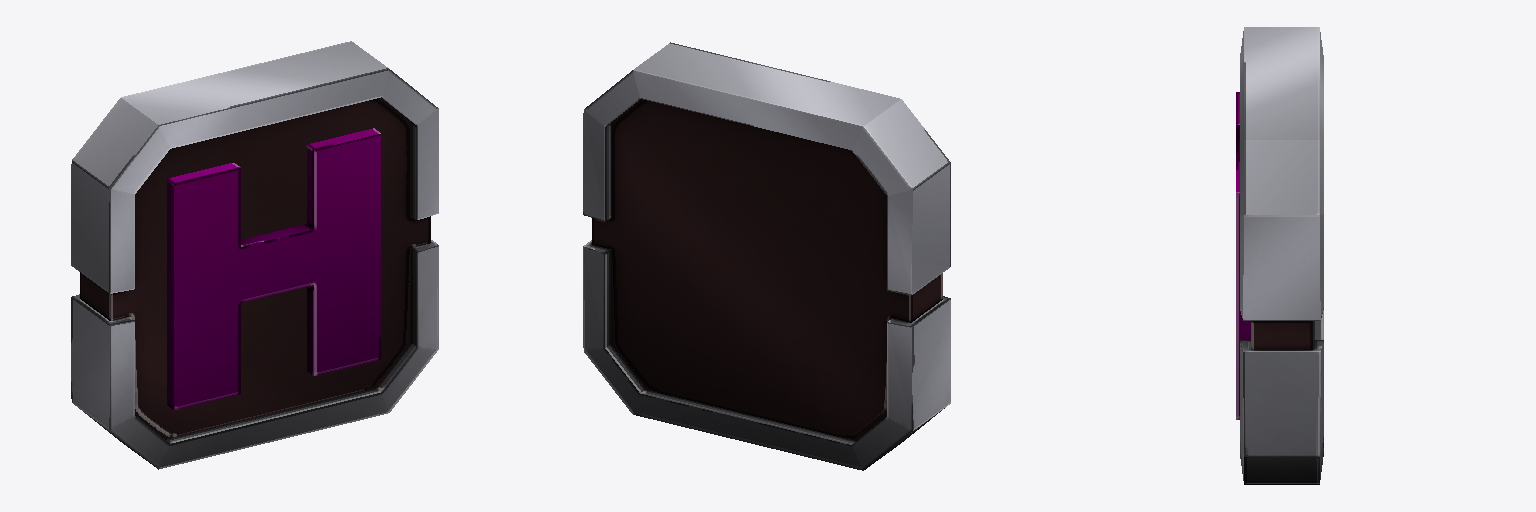
3 views of the same model, side by side, from view 1: azimuth 30°, elevation 25°; view 2: azimuth 150°, elevation 25°; view 3: azimuth 270°, elevation 25° (orthographic).
Visible parts, largest first — view 1: Box001, Object006; view 2: Box001; view 3: Box001, Object006.
Boxes of the visible parts, x1=… form: Box001: x1=71, y1=41, x2=438, y2=469; Object006: x1=167, y1=128, x2=380, y2=410; Box001: x1=583, y1=42, x2=950, y2=470; Box001: x1=1240, y1=27, x2=1323, y2=484; Object006: x1=1236, y1=92, x2=1250, y2=419.
Size of the model in its own units: 77.27 by 77.27 by 17.82.
Materials: 2 (2 with a texture image).